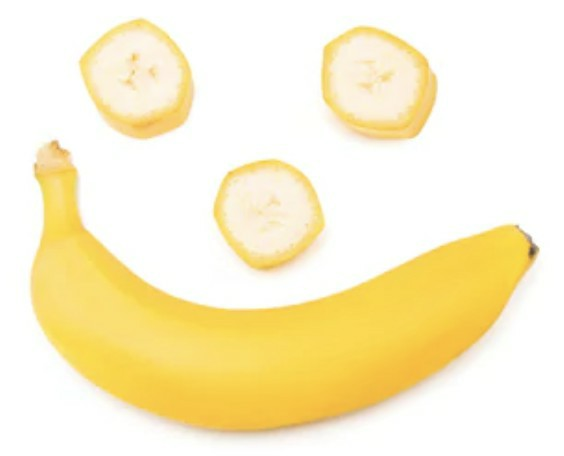fresh_banana: (28, 156, 539, 427)
